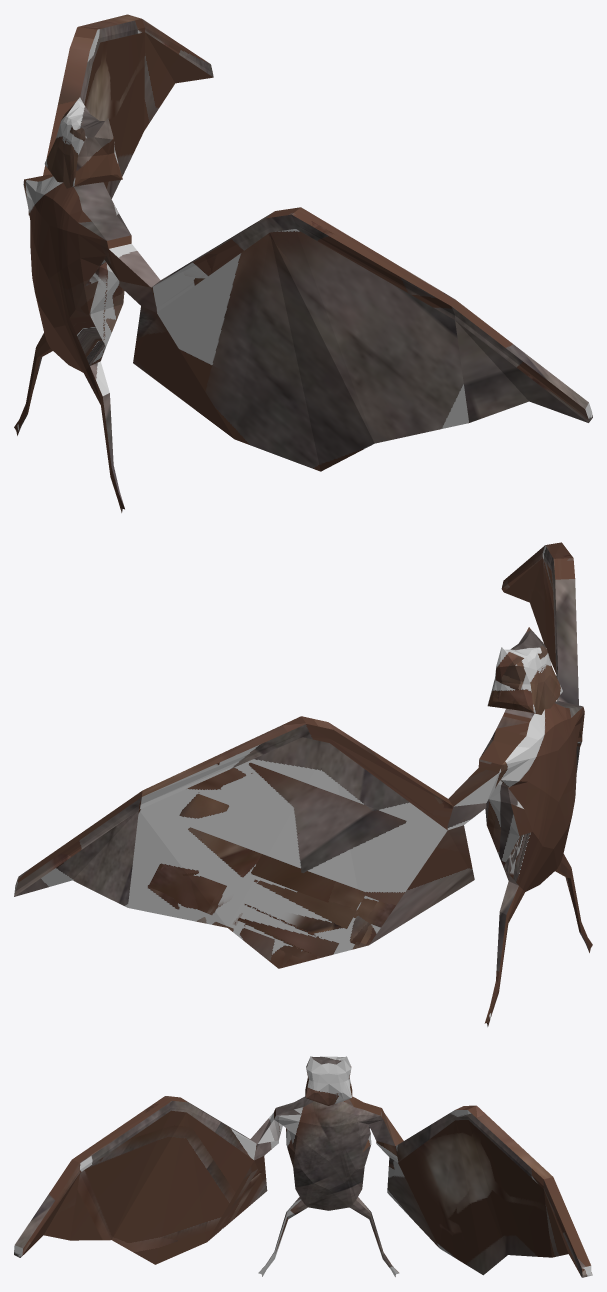
Rendered from Enemigo121.obj.
The picture shows the model from 3 angles, top to bottom: view 1: azimuth 30°, elevation 25°; view 2: azimuth 150°, elevation 25°; view 3: azimuth 270°, elevation 25°; orthographic projection. The views are drawn at different scales.
Visible parts, largest first — view 1: Plano; view 2: Plano; view 3: Plano.
Boxes of the visible parts, <box> form: Plano: <box>14,14,592,512</box>; Plano: <box>14,542,592,1026</box>; Plano: <box>14,1056,592,1277</box>.
Size of the model in its own units: 0.8007 by 0.7578 by 1.74.
Materials: 1 (1 with a texture image).
